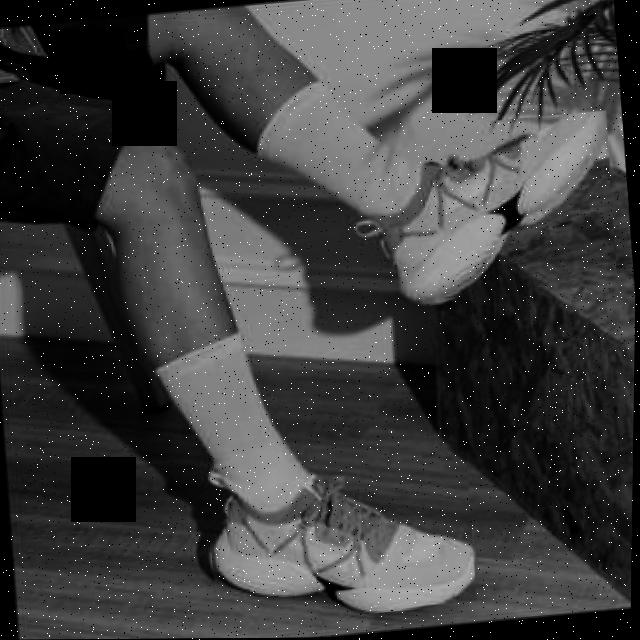shoe: (199, 441, 480, 626), (369, 110, 621, 308)
